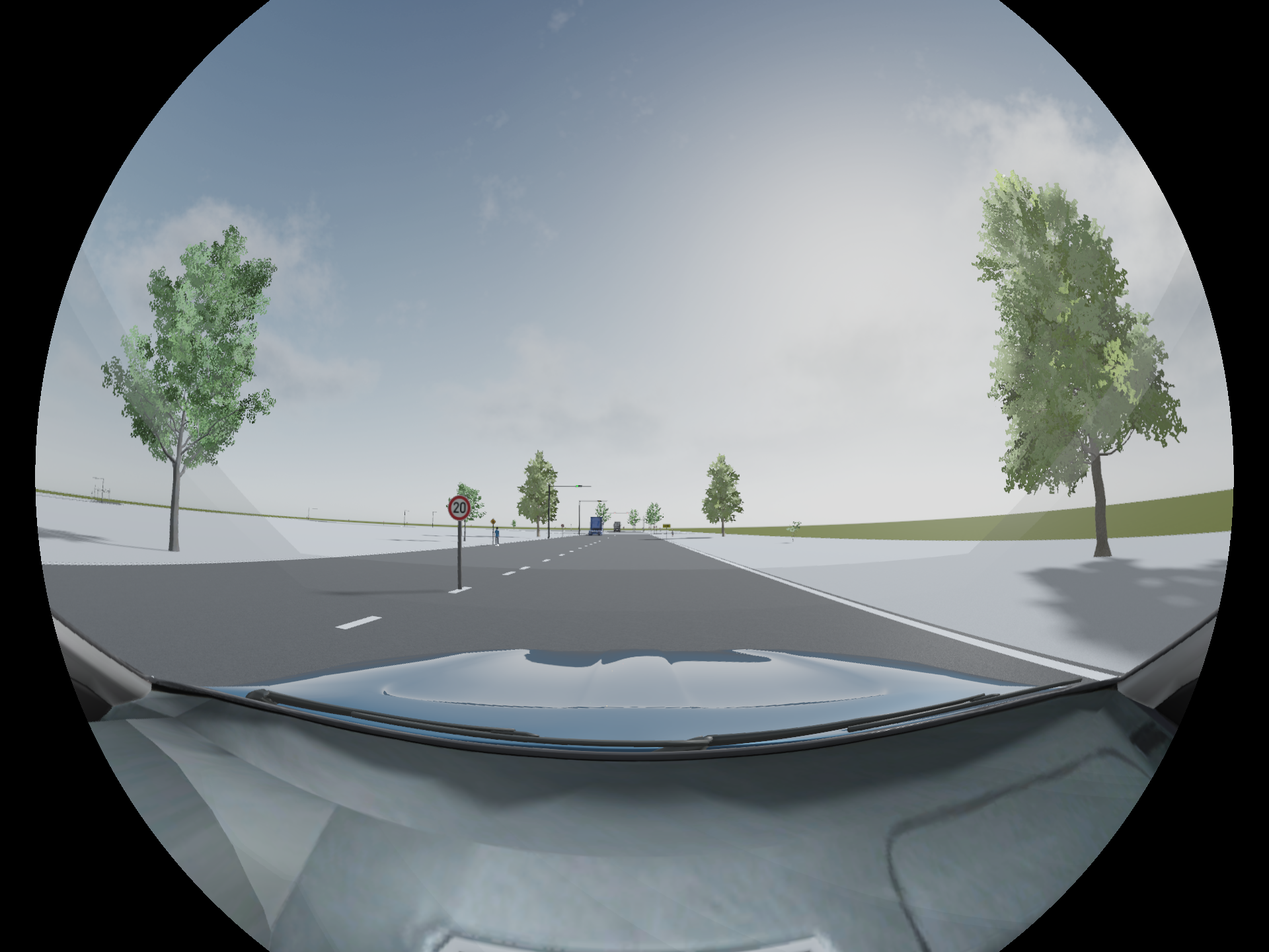Speed Limit 20: (449, 495, 470, 520)
